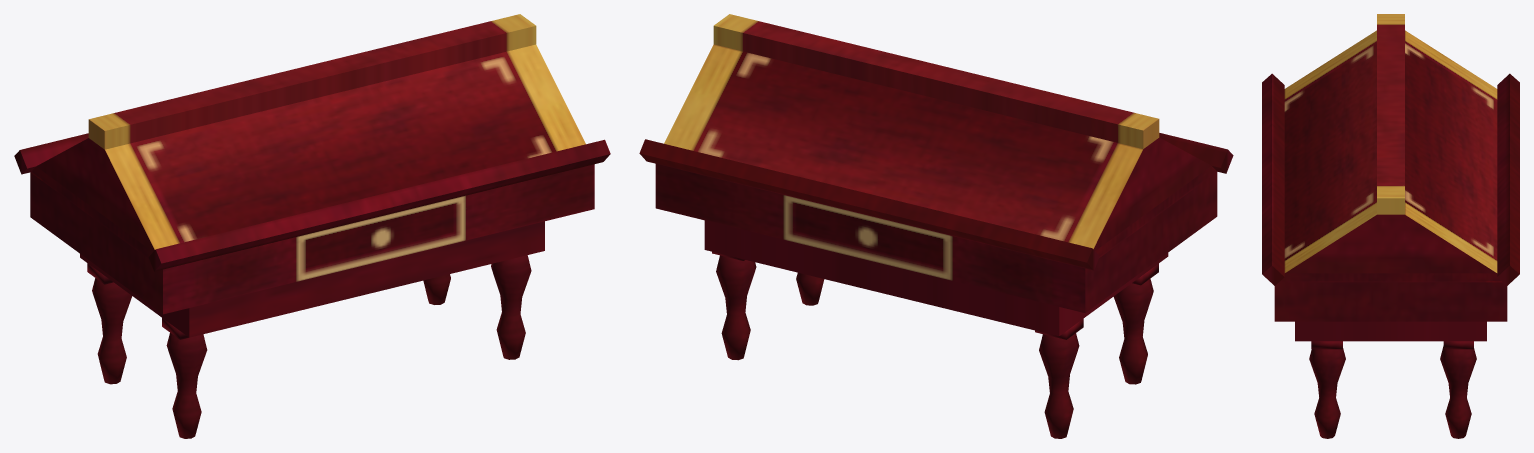
Rendered from stand2.FBX.
The picture shows the model from 3 angles, left to right: view 1: azimuth 30°, elevation 25°; view 2: azimuth 150°, elevation 25°; view 3: azimuth 270°, elevation 25°; orthographic projection. The views are drawn at different scales.
Parts seen in each view (by area): view 1: 오브젝트001; view 2: 오브젝트001; view 3: 오브젝트001.
Part boxes in pixels (x1,y1,x2,y2): 오브젝트001: (14,14,610,438); 오브젝트001: (639,14,1233,438); 오브젝트001: (1262,14,1519,438).
Size of the model in its own units: 252 by 159 by 143.
